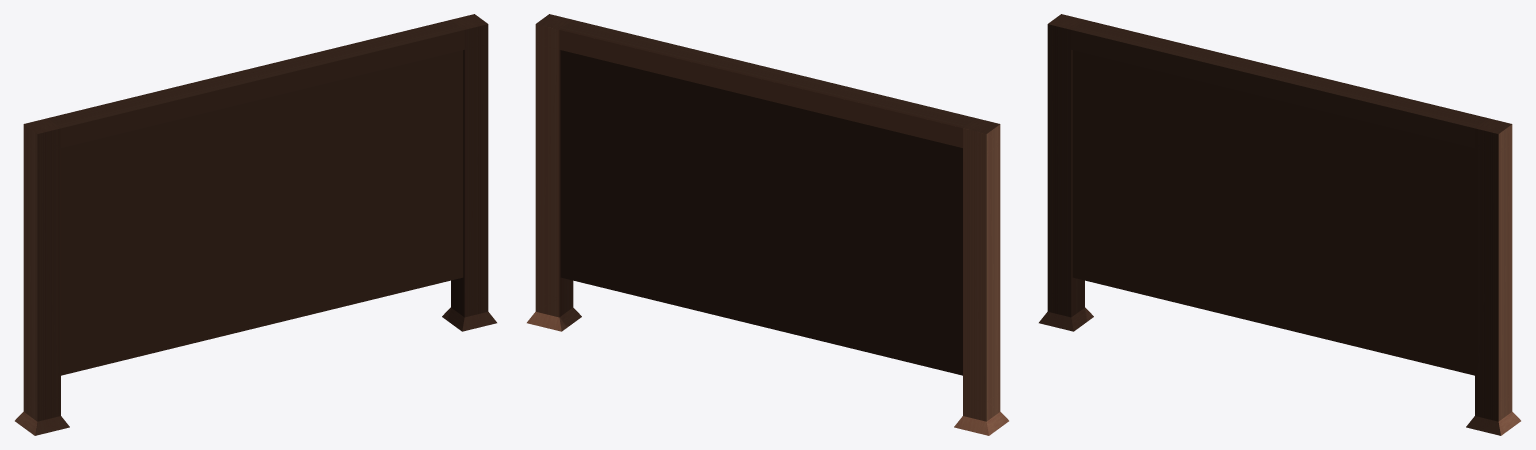
Rendered from board.glb.
3 views of the same model, side by side, from view 1: azimuth 30°, elevation 25°; view 2: azimuth 150°, elevation 25°; view 3: azimuth 330°, elevation 25° (orthographic).
Visible parts, largest first — view 1: Cube; view 2: Cube; view 3: Cube.
Boxes of the visible parts, bbox=[...] form: Cube: bbox=[15, 14, 496, 435]; Cube: bbox=[527, 14, 1008, 435]; Cube: bbox=[1039, 14, 1520, 435].
Size of the model in its own units: 6.5 by 4 by 0.5.
1 material, 1 textured.
